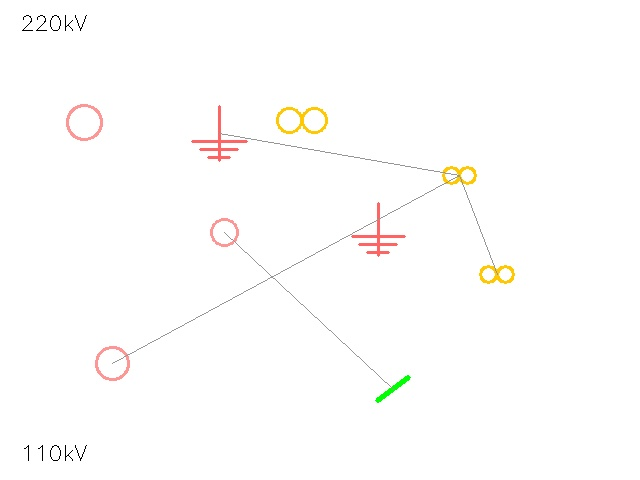busbar: (369, 365, 417, 413)
disconnect_switch: (50, 88, 118, 156)
feeder_terminal: (197, 205, 251, 259)
ground: (192, 106, 246, 160), (352, 203, 404, 255)
load_break_switch: (79, 330, 145, 396)
transformer_2w: (270, 88, 334, 152), (476, 253, 518, 295), (439, 155, 479, 195)
